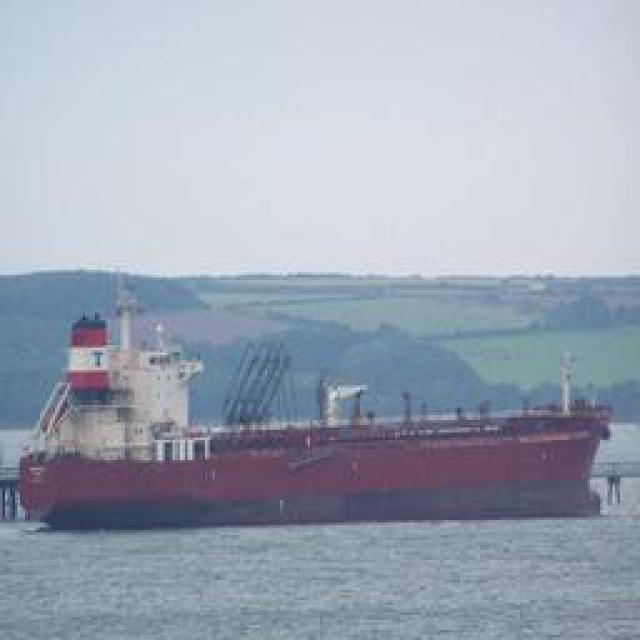Ship: (7, 315, 627, 533)
